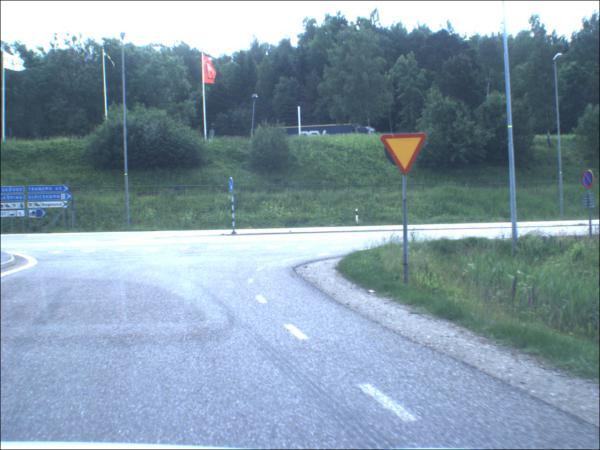GIVE_WAY: (382, 134, 429, 179)
NO_PARKING: (584, 171, 596, 191)
PASS_RIGHT_SIDE: (230, 177, 236, 194)
